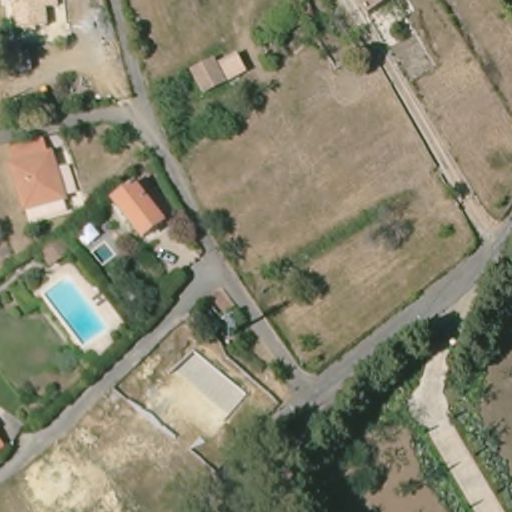pool: (37, 274, 116, 348), (85, 240, 120, 265)
